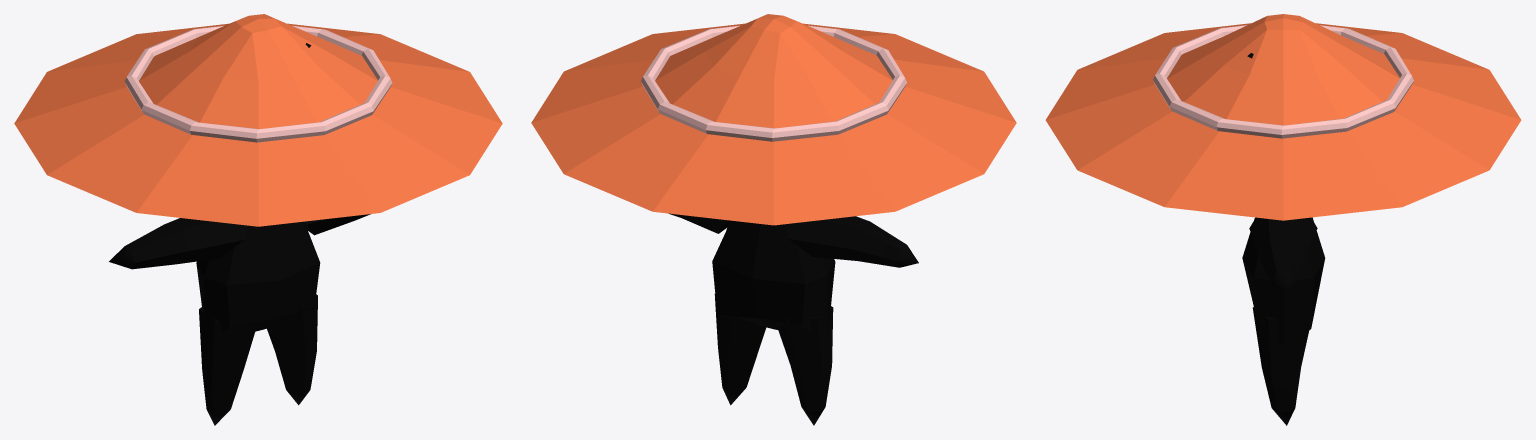
File: PlayerModel.fbx
3 views of the same model, side by side, from view 1: azimuth 30°, elevation 25°; view 2: azimuth 150°, elevation 25°; view 3: azimuth 270°, elevation 25° (orthographic). The views are drawn at different scales.
Parts seen in each view (by area): view 1: Player; view 2: Player; view 3: Player.
Boxes of the visible parts, x1,y1,x2,y2 form: Player: (14,14,502,425); Player: (531,14,1016,425); Player: (1045,14,1521,425).
Bounding box in the file's own units: 7.73 × 6.95 × 7.73.
Materials: 1 (1 with a texture image).
